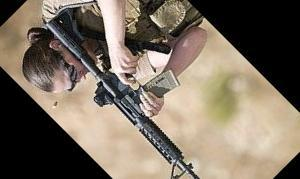larga: (46, 7, 201, 179)
